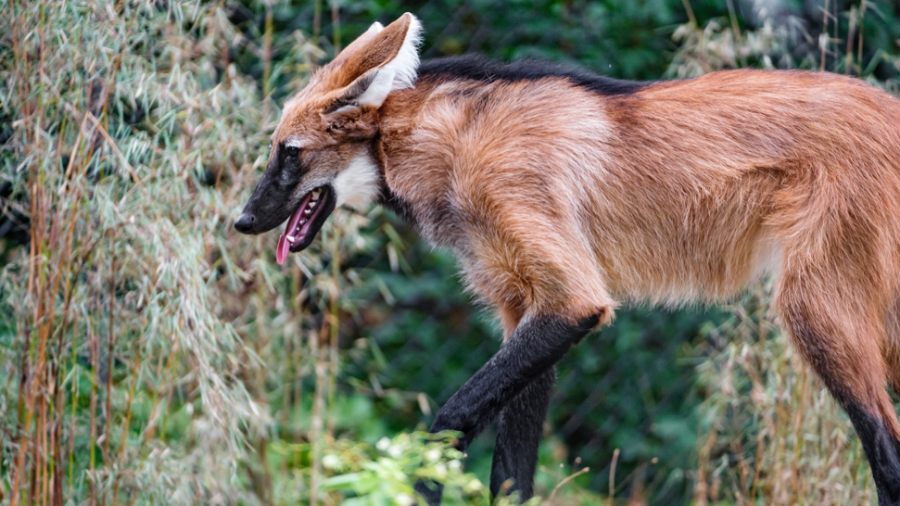LoboGuara: (222, 9, 891, 483)
